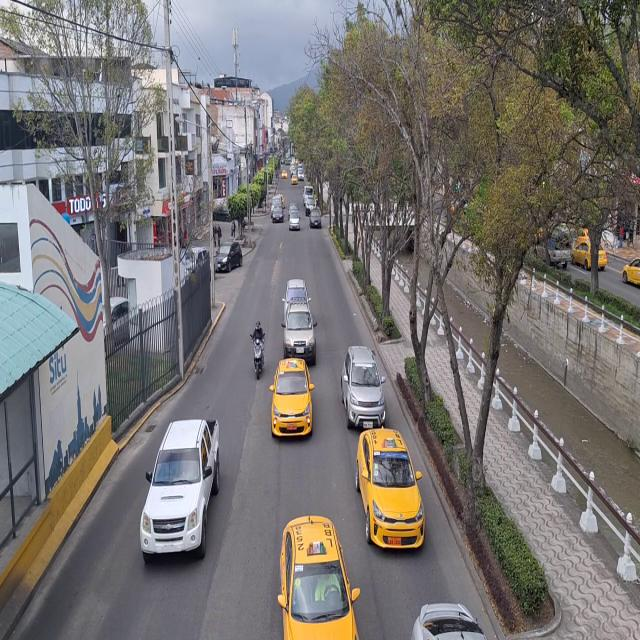CMT: (139, 414, 222, 558)
MOTORCYCLE: (252, 338, 264, 382)
